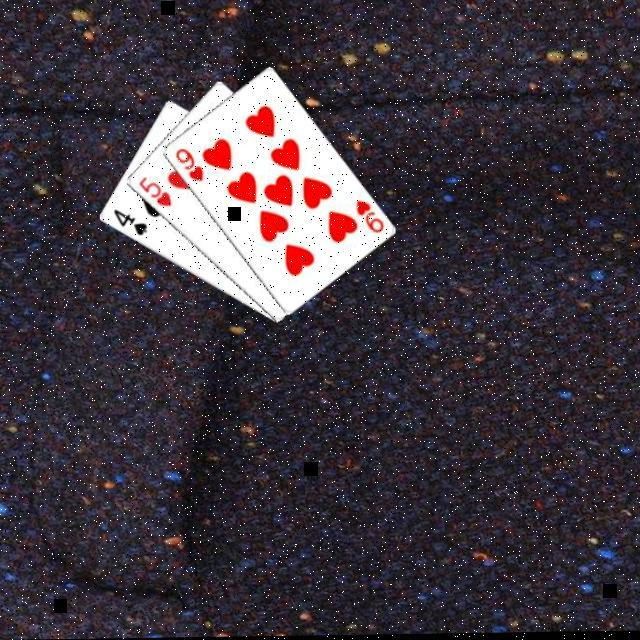4S: (109, 206, 148, 238)
5H: (135, 172, 173, 208)
9H: (171, 144, 205, 184), (352, 197, 386, 236)
